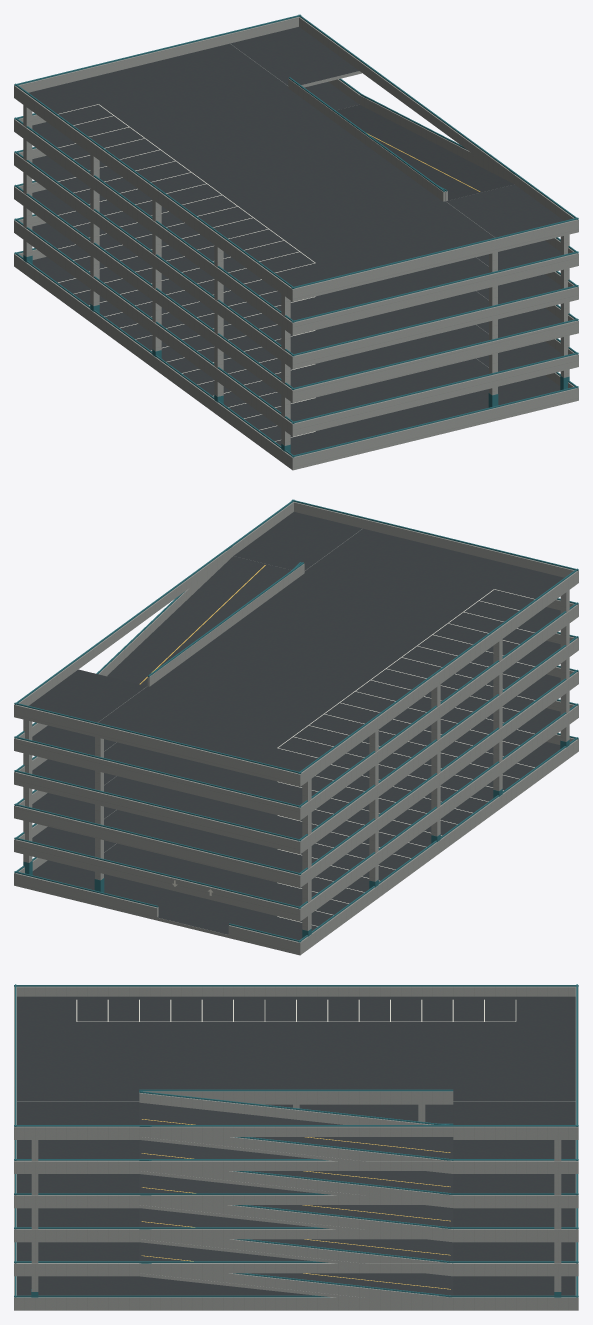
Rendered from small_06.glb.
3 views of the same model, one above another, from view 1: azimuth 30°, elevation 25°; view 2: azimuth 150°, elevation 25°; view 3: azimuth 270°, elevation 25° (orthographic).
Parts seen in each view (by area): view 1: small_06_Asphalt, small_06_Concrete, small_06_Teal, small_06_Paint; view 2: small_06_Asphalt, small_06_Concrete, small_06_Teal, small_06_Paint; view 3: small_06_Asphalt, small_06_Concrete, small_06_Teal, small_06_Yellow, small_06_Paint.
Boxes of the visible parts, <box> form: small_06_Asphalt: <box>28,27,563,455</box>; small_06_Concrete: <box>14,16,578,470</box>; small_06_Teal: <box>14,14,578,457</box>; small_06_Paint: <box>58,104,315,441</box>; small_06_Asphalt: <box>29,512,564,940</box>; small_06_Concrete: <box>14,501,578,955</box>; small_06_Teal: <box>14,499,578,942</box>; small_06_Paint: <box>277,589,534,926</box>; small_06_Asphalt: <box>17,996,575,1295</box>; small_06_Concrete: <box>14,986,578,1310</box>; small_06_Teal: <box>14,984,578,1297</box>; small_06_Yellow: <box>141,1119,450,1289</box>; small_06_Paint: <box>76,999,516,1021</box>.
Size of the model in its own units: 32 by 19.48 by 54.02.
Materials: 6 (2 with a texture image).
